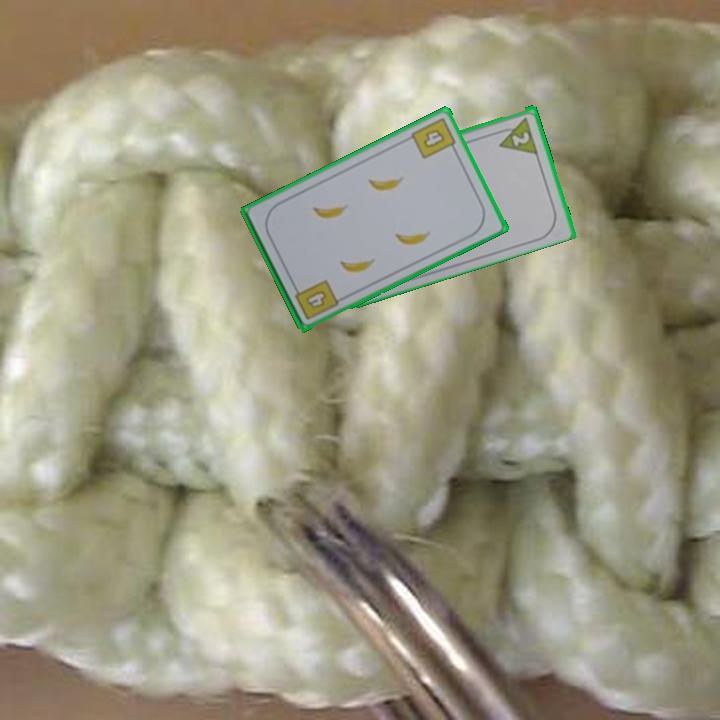2p: (509, 127, 533, 149)
4b: (407, 114, 460, 162), (290, 276, 341, 323)
